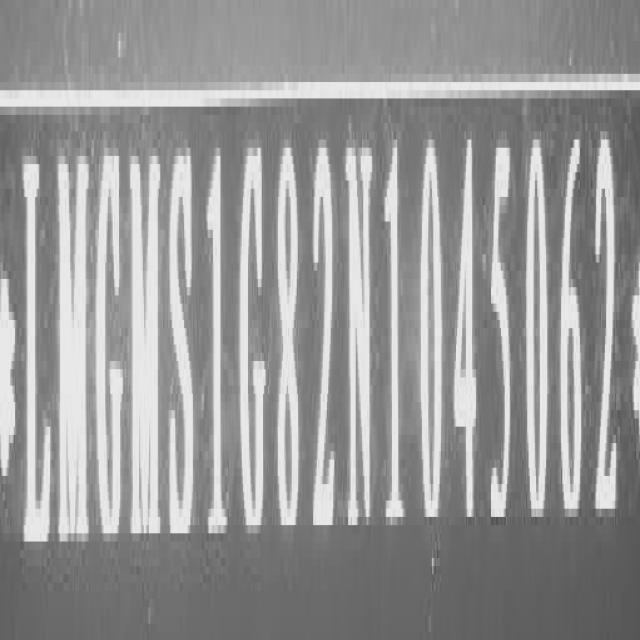0: (522, 120, 550, 534), (417, 137, 444, 530)
1: (378, 104, 408, 530), (205, 136, 231, 544)
2: (595, 84, 623, 530), (310, 119, 339, 542)
4: (450, 120, 482, 542)
5: (487, 110, 514, 534)
6: (557, 123, 585, 522)
8: (274, 116, 304, 544)
G: (94, 143, 126, 538), (236, 143, 268, 530)
L: (18, 146, 54, 546)
M: (55, 140, 92, 559), (129, 140, 164, 550)
N: (344, 123, 376, 542)
S: (168, 111, 202, 561)
